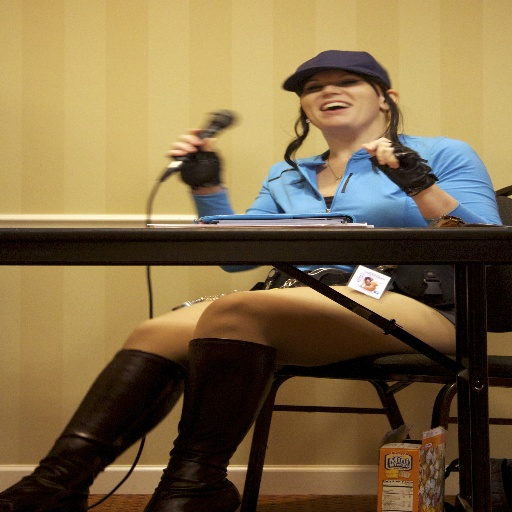hand: (359, 134, 434, 184), (161, 118, 222, 156)
